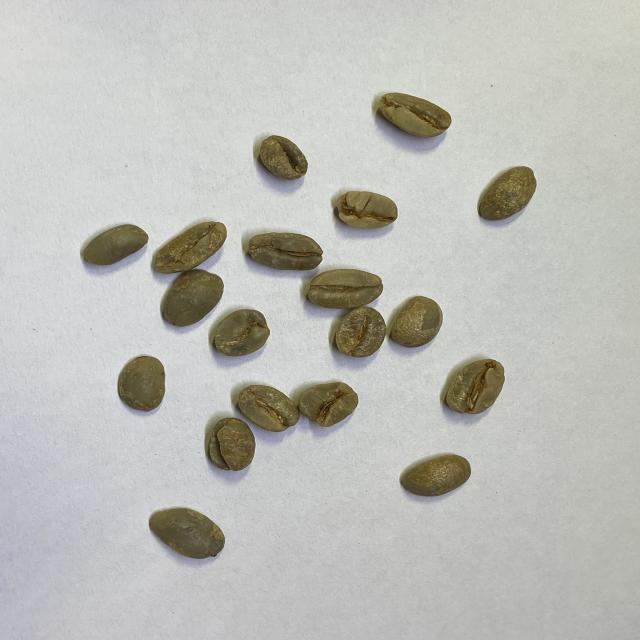bad: (375, 90, 455, 145), (151, 220, 227, 272), (442, 356, 506, 416), (210, 307, 273, 357), (247, 231, 323, 272), (80, 224, 149, 268), (256, 130, 310, 185), (302, 380, 360, 431), (208, 417, 256, 473), (334, 188, 397, 229)
good: (149, 506, 226, 560), (476, 164, 539, 223), (160, 269, 223, 327), (232, 383, 300, 432), (398, 452, 473, 496), (305, 268, 383, 307), (391, 294, 444, 350), (117, 355, 169, 410), (333, 306, 386, 359)
